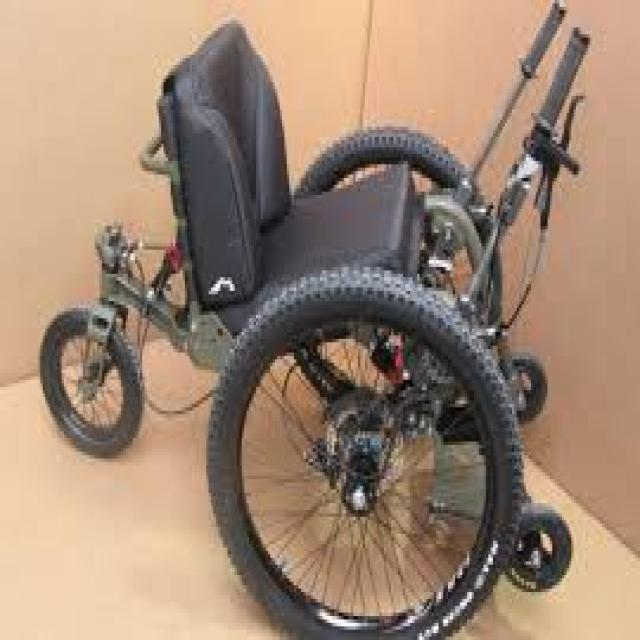wheelchairs: (156, 31, 574, 640)
